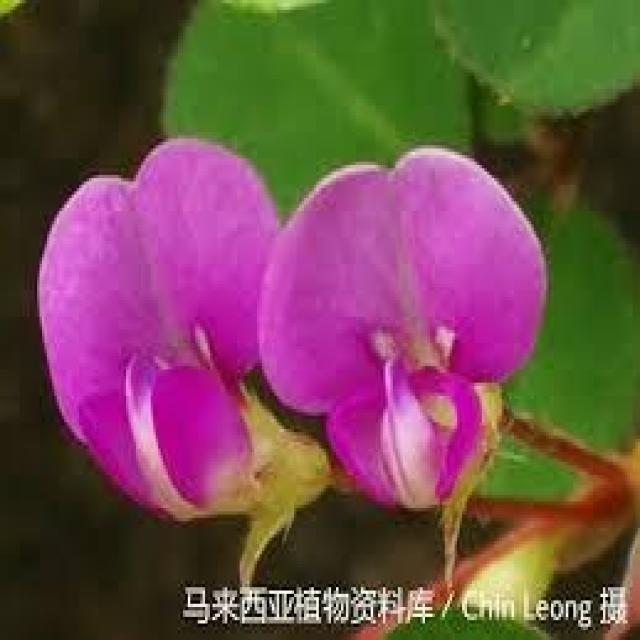organic waste: (249, 142, 566, 518), (48, 132, 335, 518)
